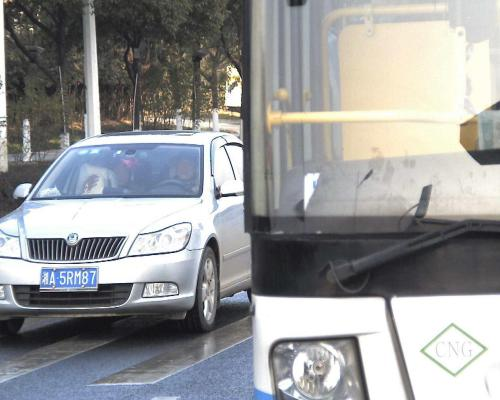Carplate: (35, 266, 102, 292)
